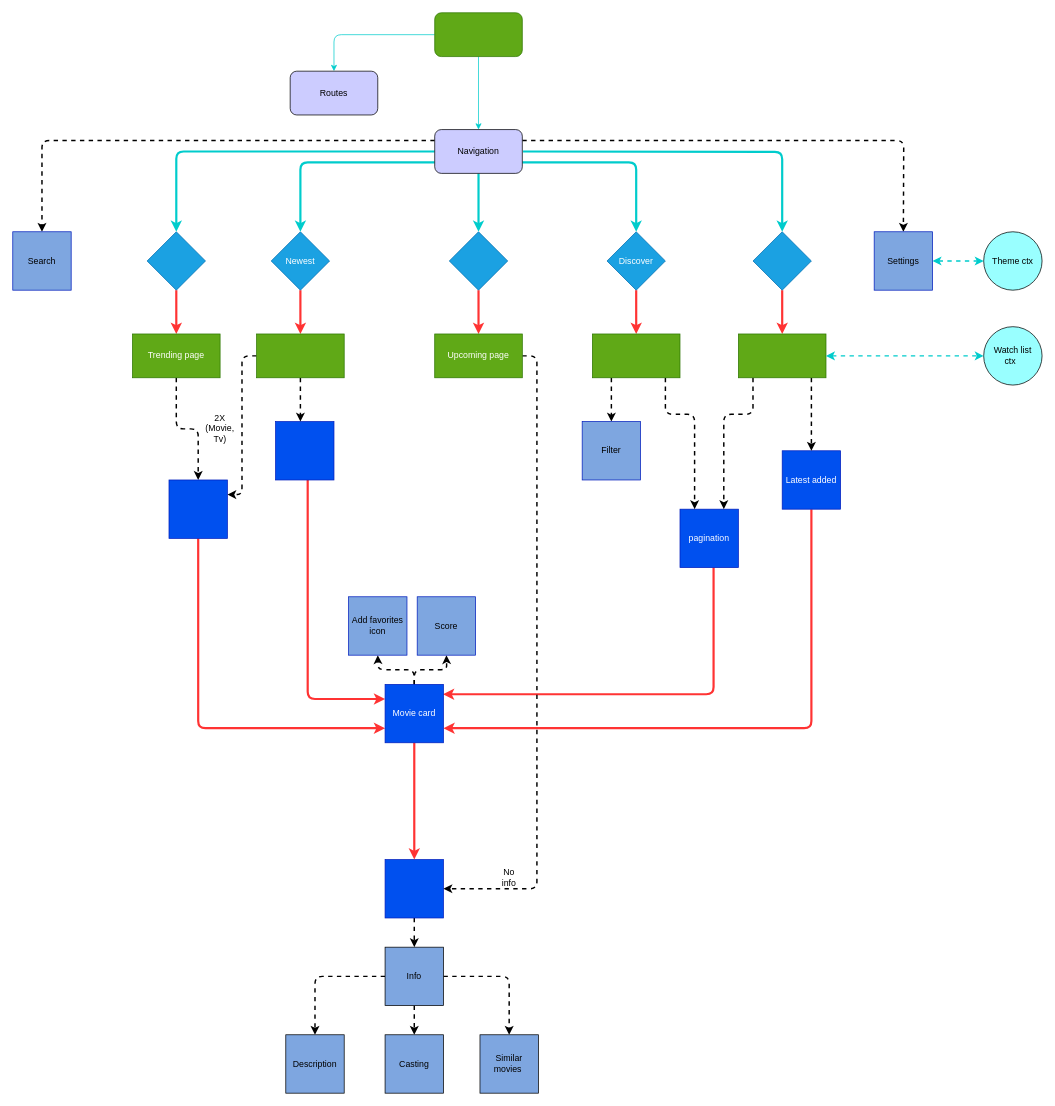
Some shapes in this 1055 by 1106 pixel diagram are drawn without their labels. The shapes that lost their labels are listed below. From the top down, each one's centre as x and y in pixels, then its label:
At point (478, 34): "App".
At point (175, 260): "Trending".
At point (478, 260): "Upcoming".
At point (781, 260): "Watch list".
At point (300, 355): "Newest page".
At point (636, 355): "Discover page".
At point (782, 355): "Watch list page".
At point (304, 450): "Cinema movies".
At point (197, 508): "Movie list (Show more)".
At point (413, 888): "Movie details".
